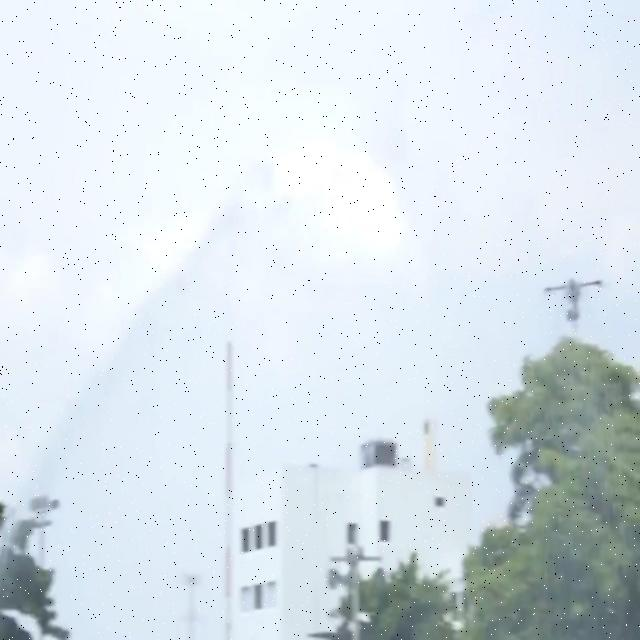UAV: (544, 277, 604, 322)
